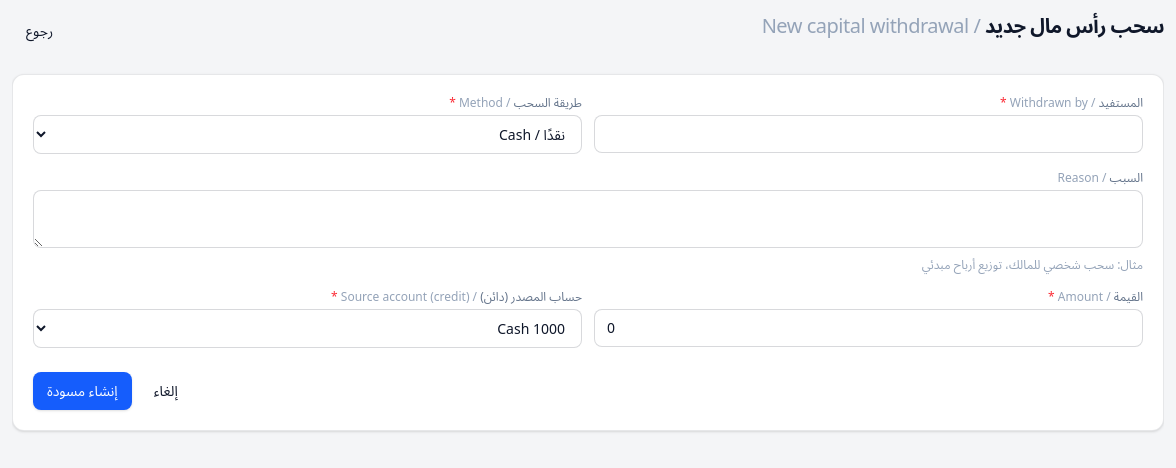
Test: CapitalWithdrawalFormPage › blocks submit on a non-positive amount and never allocates a reference id
The width and height of the screenshot is (1176, 468).
In the field labelled "المستفيد / Withdrawn by *": (868, 134) [594,115,1143,153], type "المالك"
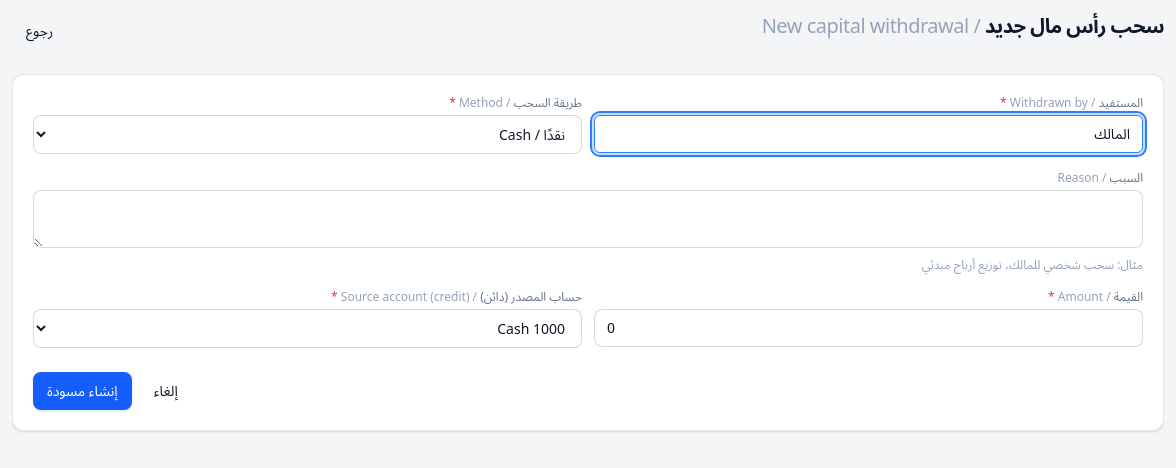
Click the button "إنشاء مسودة": (82, 391) [33,372,132,410]
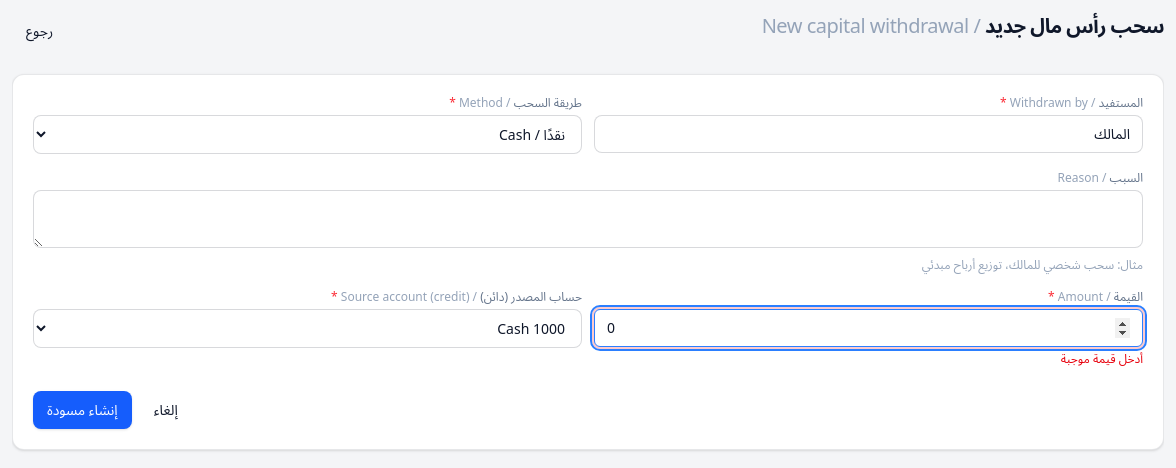
Now the text "أدخل قيمة موجبة" is shown, box [1061,350,1143,367]
